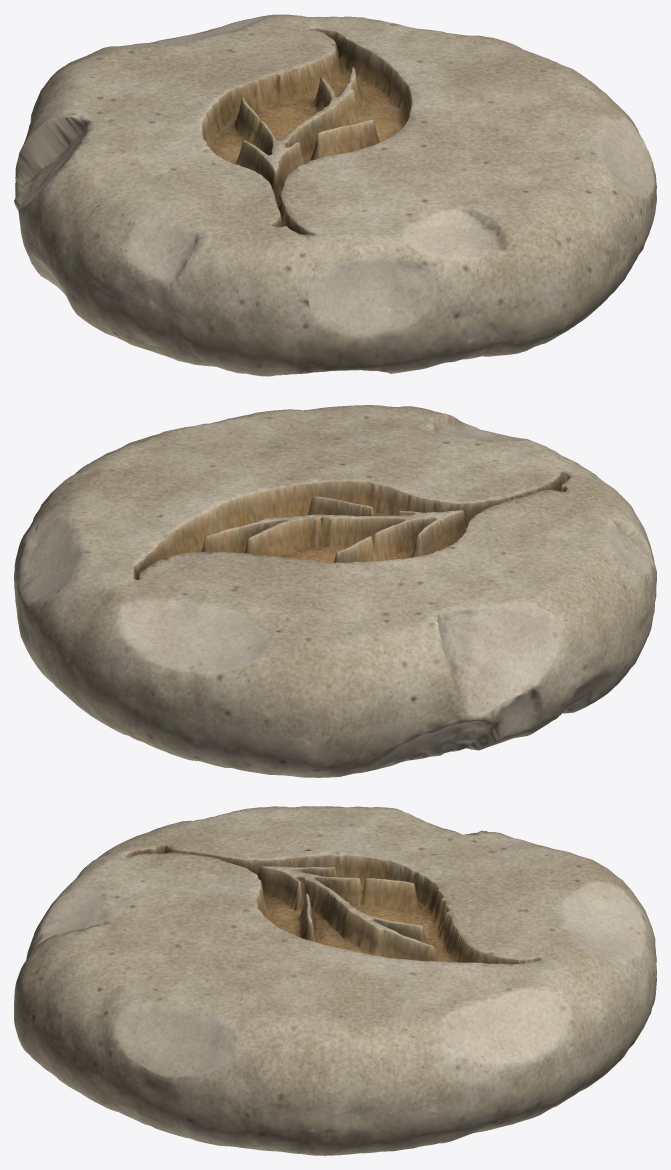
File: opmet-coin_leaf.glb
3 views of the same model, one above another, from view 1: azimuth 30°, elevation 25°; view 2: azimuth 150°, elevation 25°; view 3: azimuth 270°, elevation 25° (orthographic). The views are drawn at different scales.
Parts seen in each view (by area): view 1: sandstone; view 2: sandstone; view 3: sandstone.
Part boxes in pixels (x1=…): sandstone: x1=14, y1=14, x2=656, y2=376; sandstone: x1=14, y1=405, x2=656, y2=777; sandstone: x1=14, y1=806, x2=656, y2=1155.
Size of the model in its own units: 1.99 by 0.5259 by 2.05.
1 material, 1 textured.
